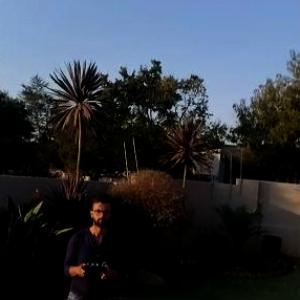follow: (58, 193, 125, 299)
